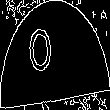O_S: (42, 28, 68, 82)
